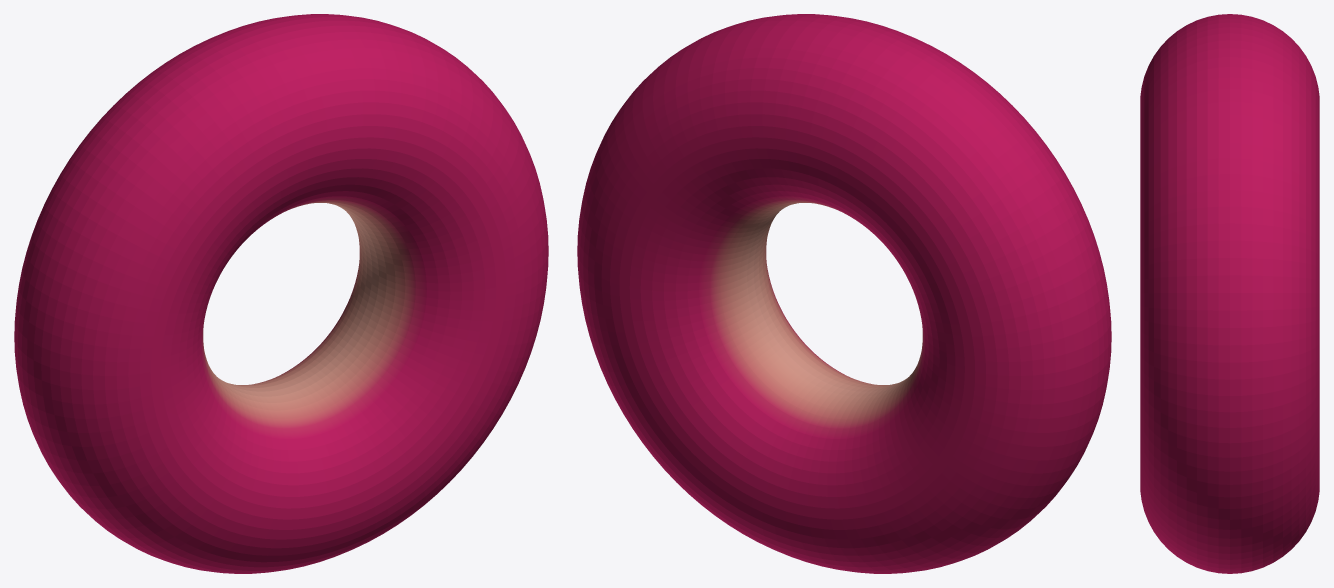
3 renders of one model, left to right at view 1: azimuth 30°, elevation 25°; view 2: azimuth 150°, elevation 25°; view 3: azimuth 270°, elevation 25°, orthographic. The views are drawn at different scales.
Parts seen in each view (by area): view 1: world; view 2: world; view 3: world.
Part boxes in pixels (bbox=[...]): world: bbox=[14, 14, 548, 573]; world: bbox=[577, 14, 1111, 573]; world: bbox=[1140, 14, 1319, 573].
Size of the model in its own units: 18.67 by 18.67 by 5.99.
